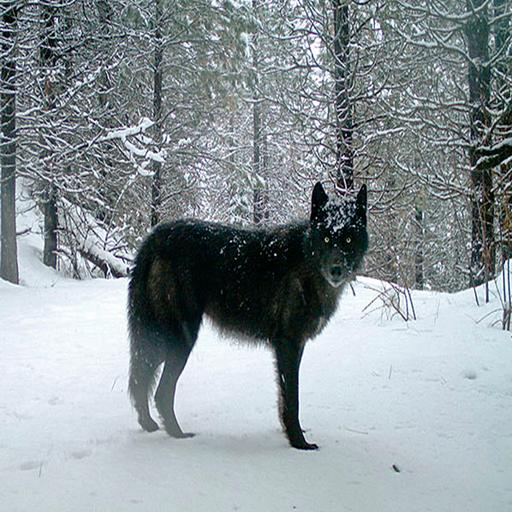Wolf: (117, 177, 385, 472)
